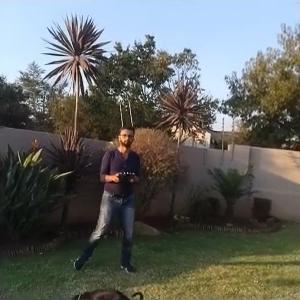follow: (68, 117, 145, 278)
